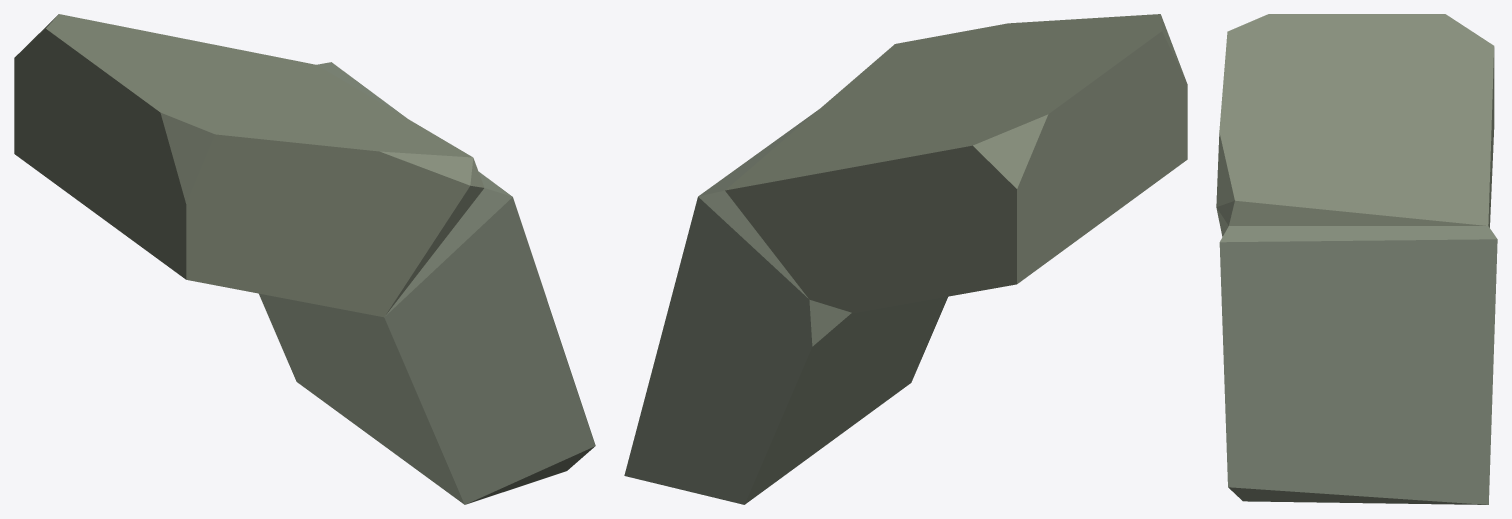
The model's file is arch_tiny_right.fbx.
3 renders of one model, left to right at view 1: azimuth 30°, elevation 25°; view 2: azimuth 150°, elevation 25°; view 3: azimuth 270°, elevation 25°, orthographic. The views are drawn at different scales.
Visible parts, largest first — view 1: arch_tiny_right; view 2: arch_tiny_right; view 3: arch_tiny_right.
Part boxes in pixels (x1,y1,x2,y2): arch_tiny_right: [14, 14, 595, 504]; arch_tiny_right: [624, 14, 1187, 504]; arch_tiny_right: [1216, 14, 1497, 504].
Bounding box in the file's own units: 73.41 × 75.73 × 56.68.
